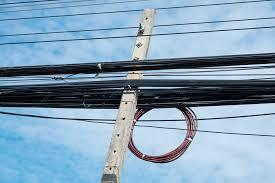wires-only: (0, 58, 274, 109)
